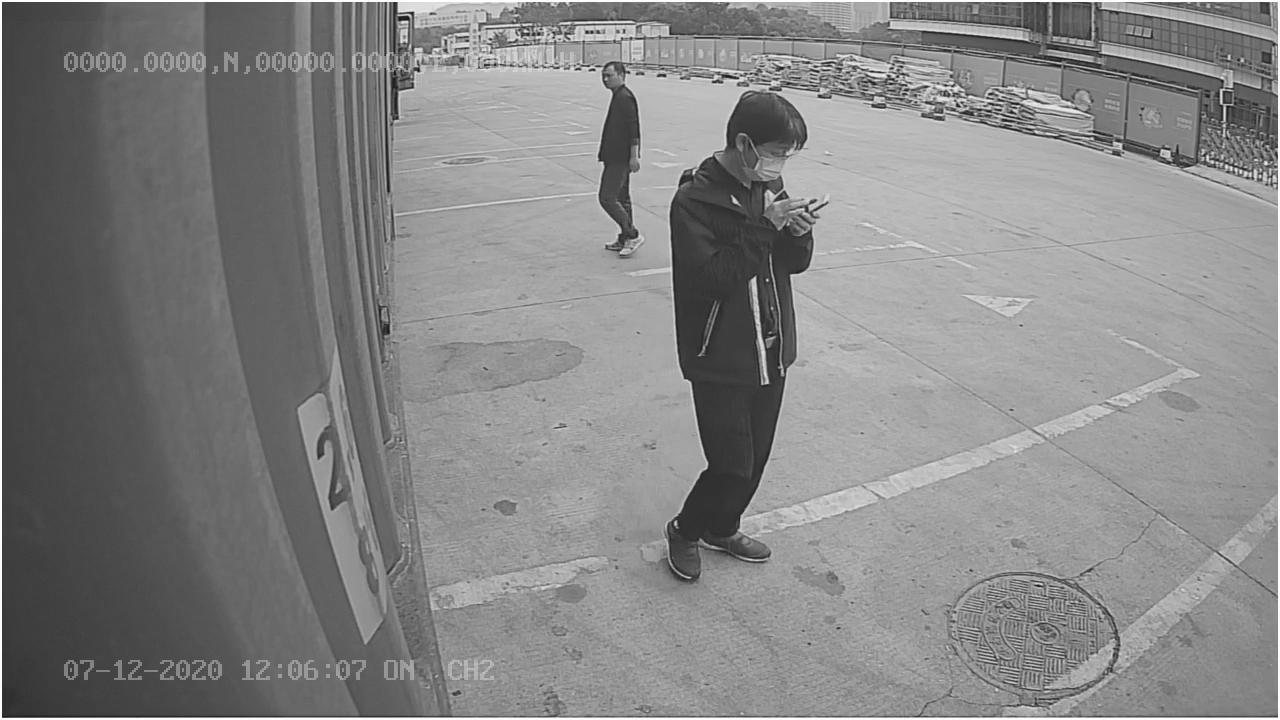person: (660, 93, 821, 580)
